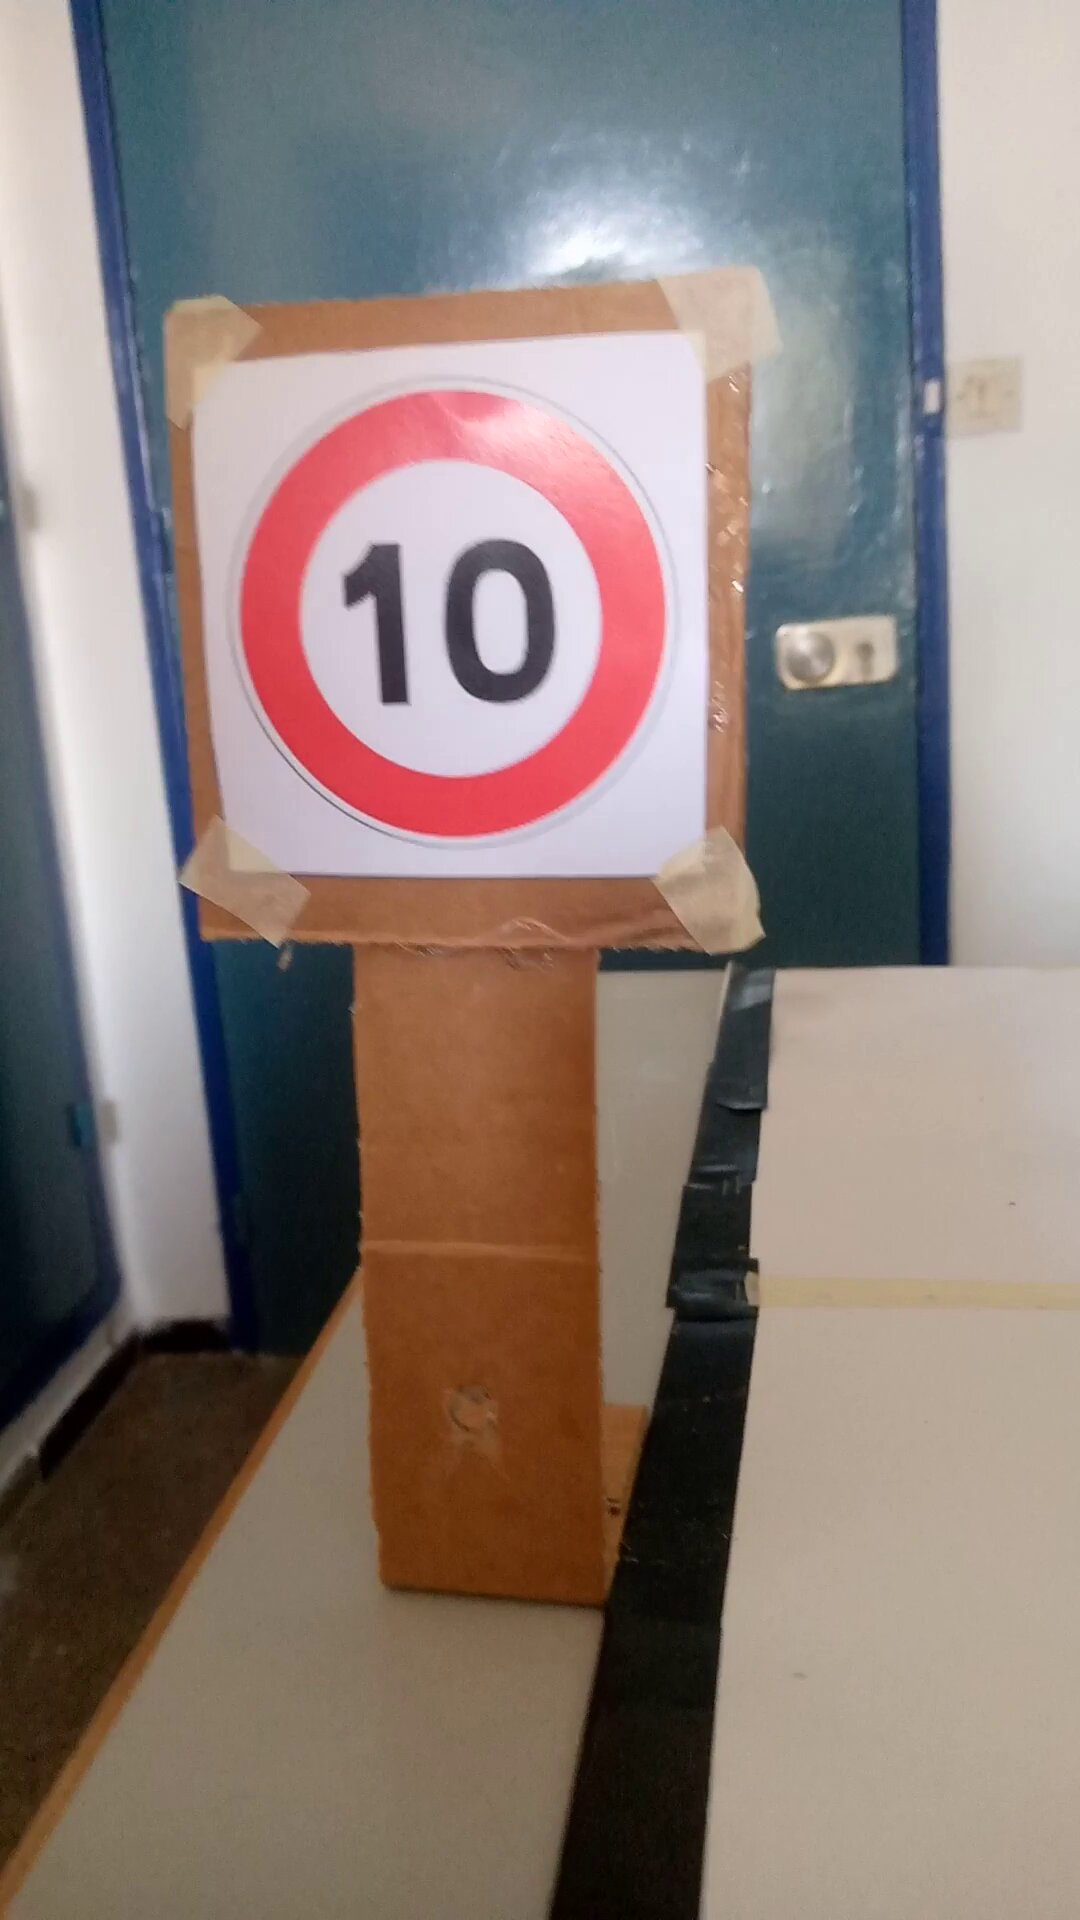panel011: (181, 357, 721, 899)
